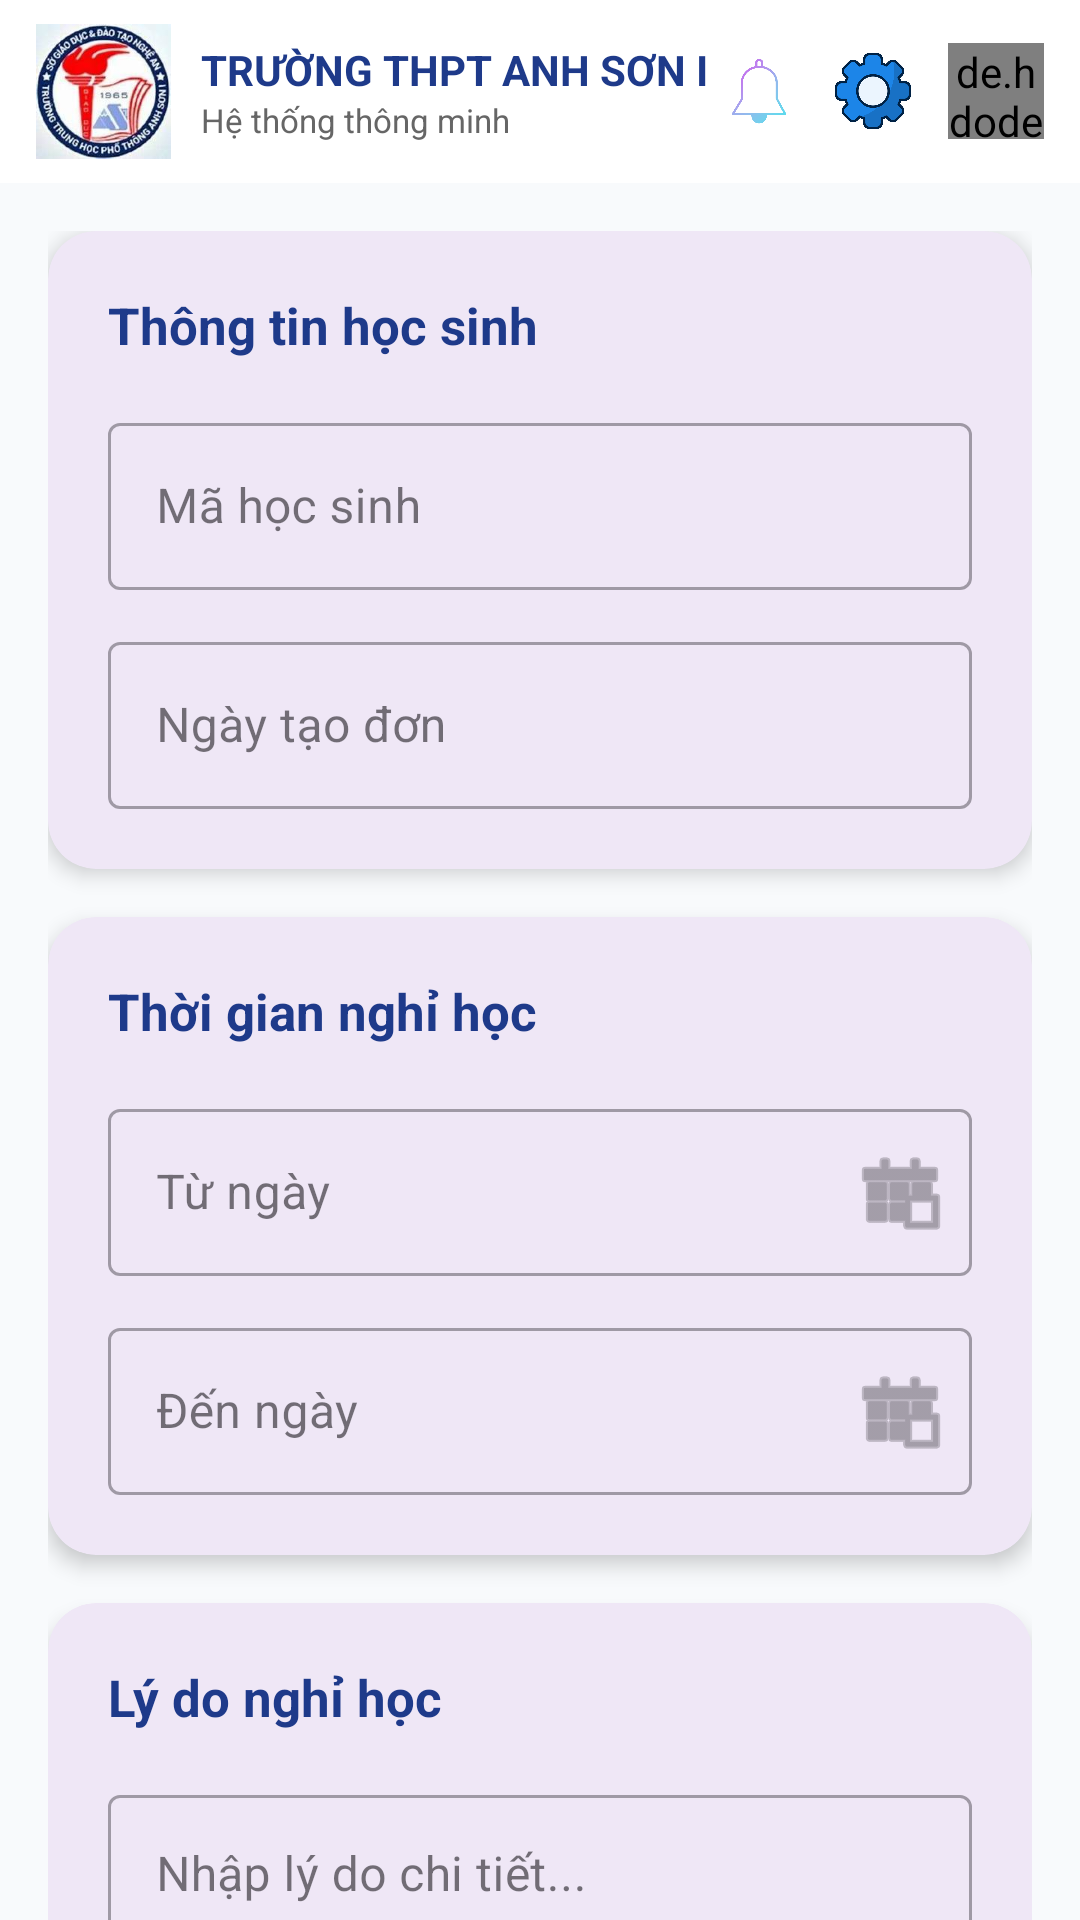

Icons on this 1080 × 1920 Android screen, each with its box as BBox(x1, y1, x2, y2):
Notification: BBox(732, 59, 786, 124)
Settings: BBox(835, 53, 911, 129)
